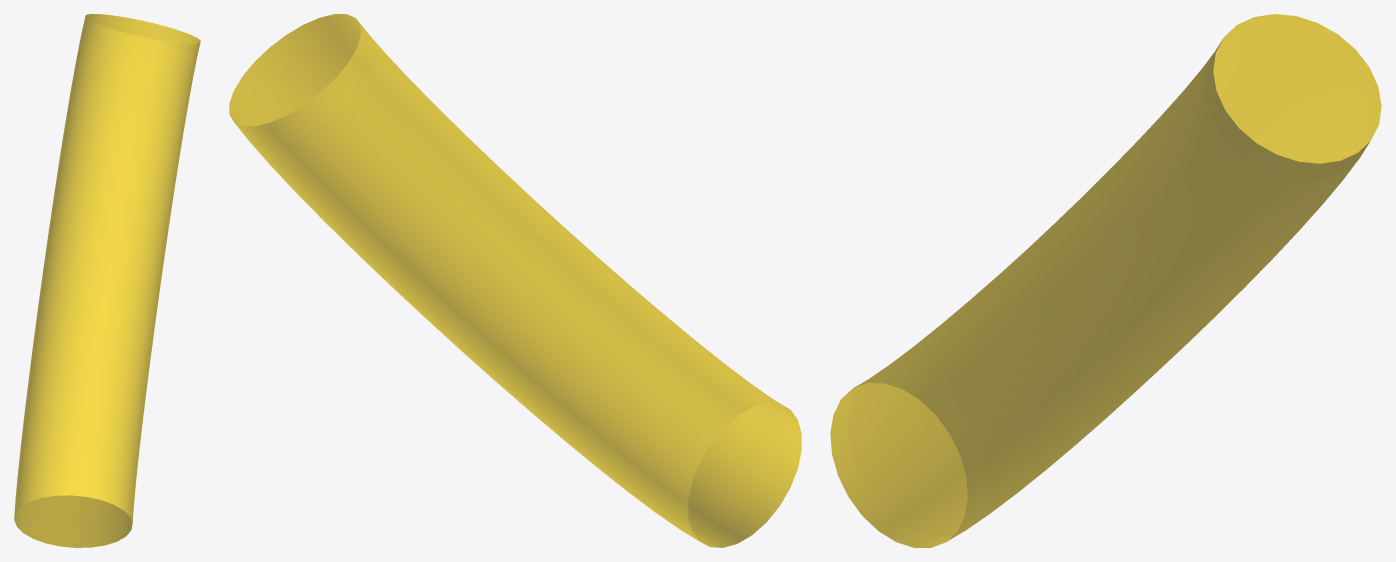
File: Event_75125125_track_82.fbx
3 renders of one model, left to right at view 1: azimuth 30°, elevation 25°; view 2: azimuth 150°, elevation 25°; view 3: azimuth 270°, elevation 25°, orthographic. The views are drawn at different scales.
Parts seen in each view (by area): view 1: Model; view 2: Model; view 3: Model.
Part boxes in pixels (bbox=[...]): Model: bbox=[14, 14, 200, 547]; Model: bbox=[229, 14, 801, 547]; Model: bbox=[830, 14, 1381, 547].
Bounding box in the file's own units: 0.1138 × 0.1559 × 0.1226.
